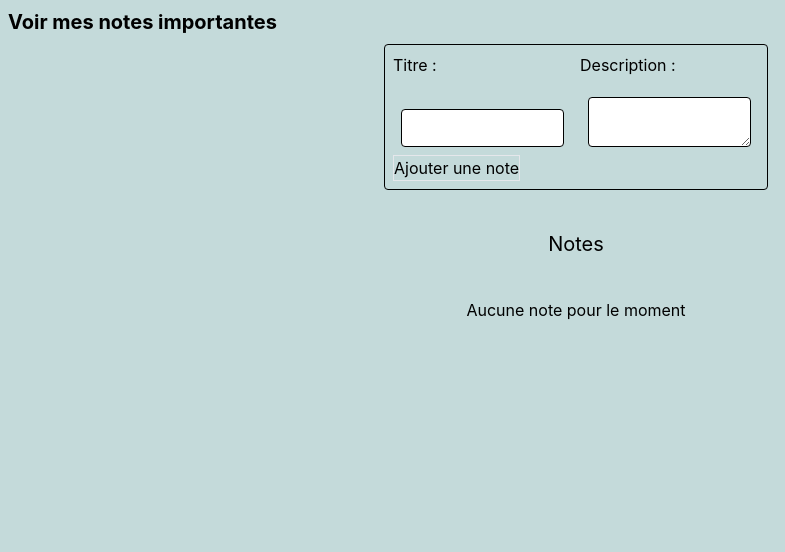
Scenario: Home › Note interactions
This screenshot has width=785, height=552.
Expected: the text "Aucune note pour le moment" is shown, [466,298,686,322]
Type "My title" into the field named "note-title".
click(482, 128); type("My title")  # box [401,109,564,147]
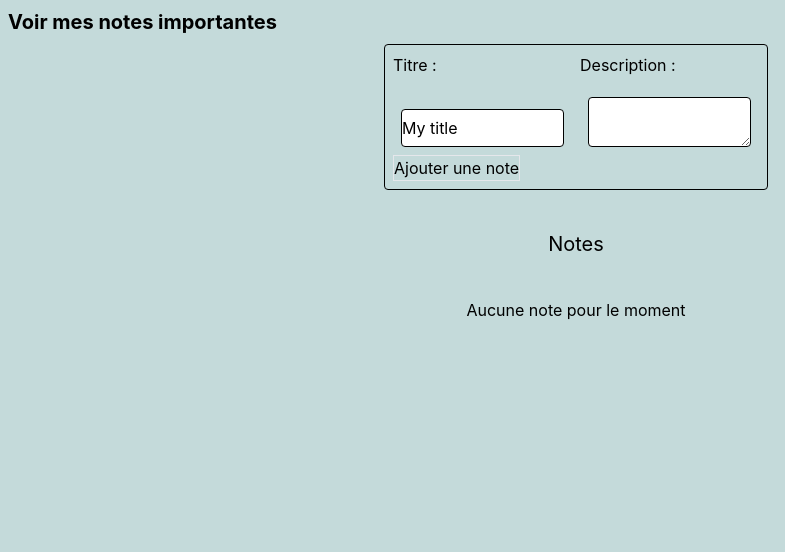
Type "My content" into the text box named "note-content".
click(670, 122); type("My content")  # box [588,97,751,147]
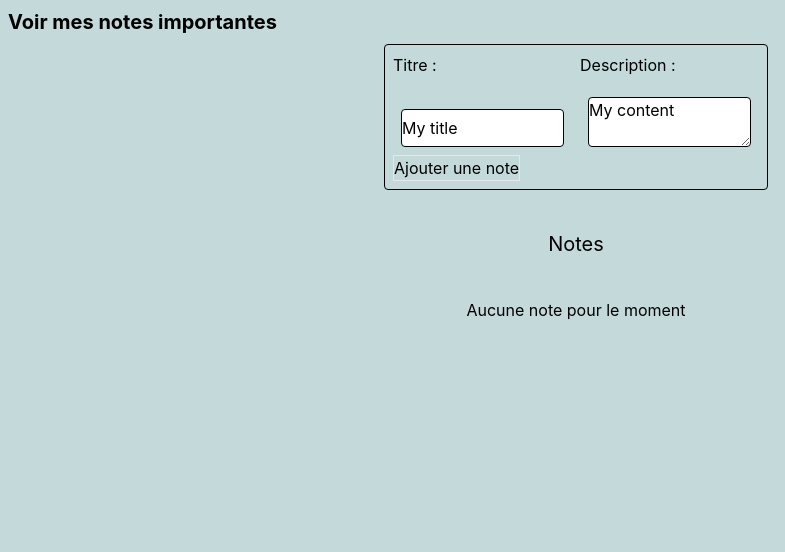
Click the button "Ajouter une note".
click(457, 168)  # box [393,155,520,181]
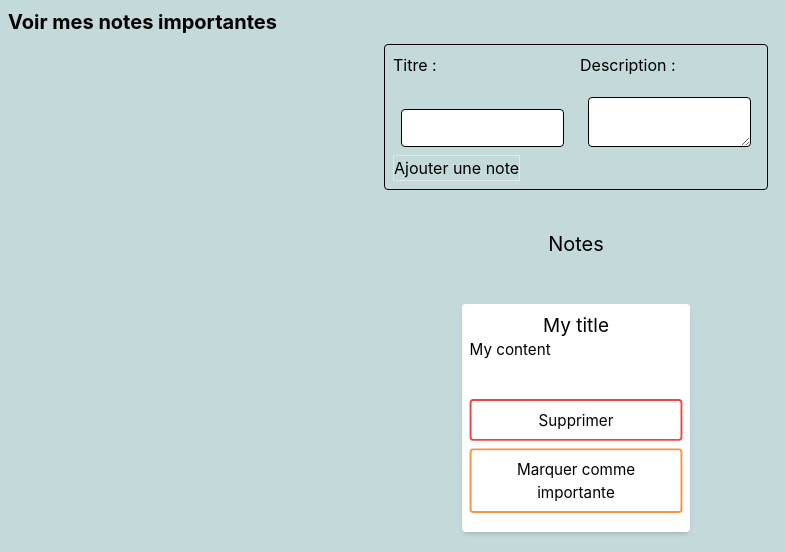
Expected: the text "Aucune note pour le moment" is gone
Expected: the heading "My title" is shown, [543,314,609,336]
Expected: the text "My content" is shown, [470,340,551,359]
Click the button "Marquer comme importante".
click(576, 481)  # box [470,448,682,513]
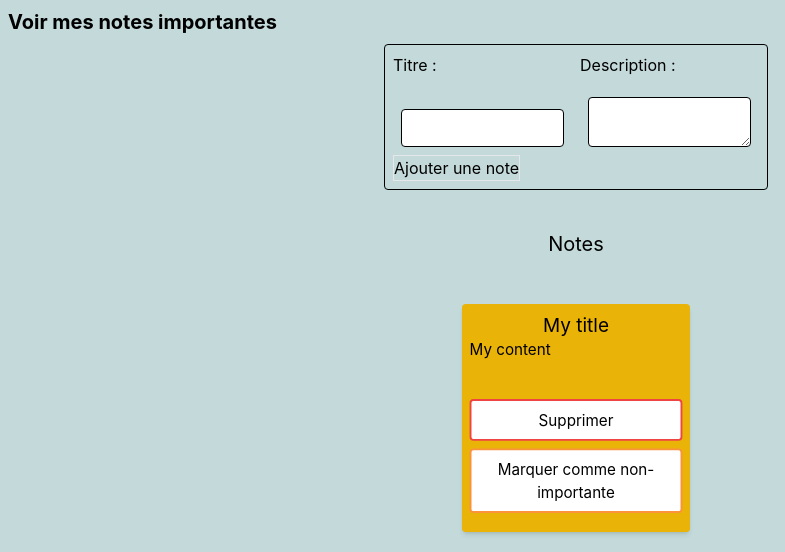
Expected: the button "Marquer comme non- importante" is shown, [470,448,682,513]
Click the button "Supprimer".
click(576, 420)  # box [470,399,682,441]
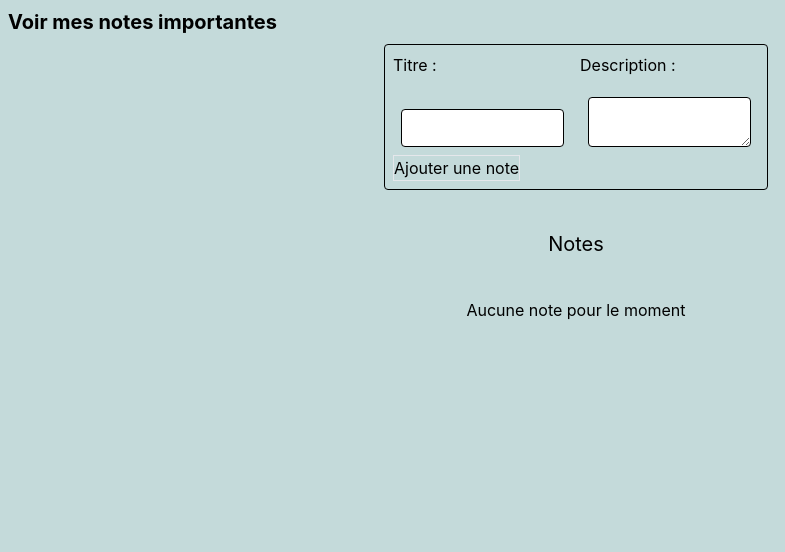
Expected: the text "Aucune note pour le moment" is shown, [466,298,686,322]
